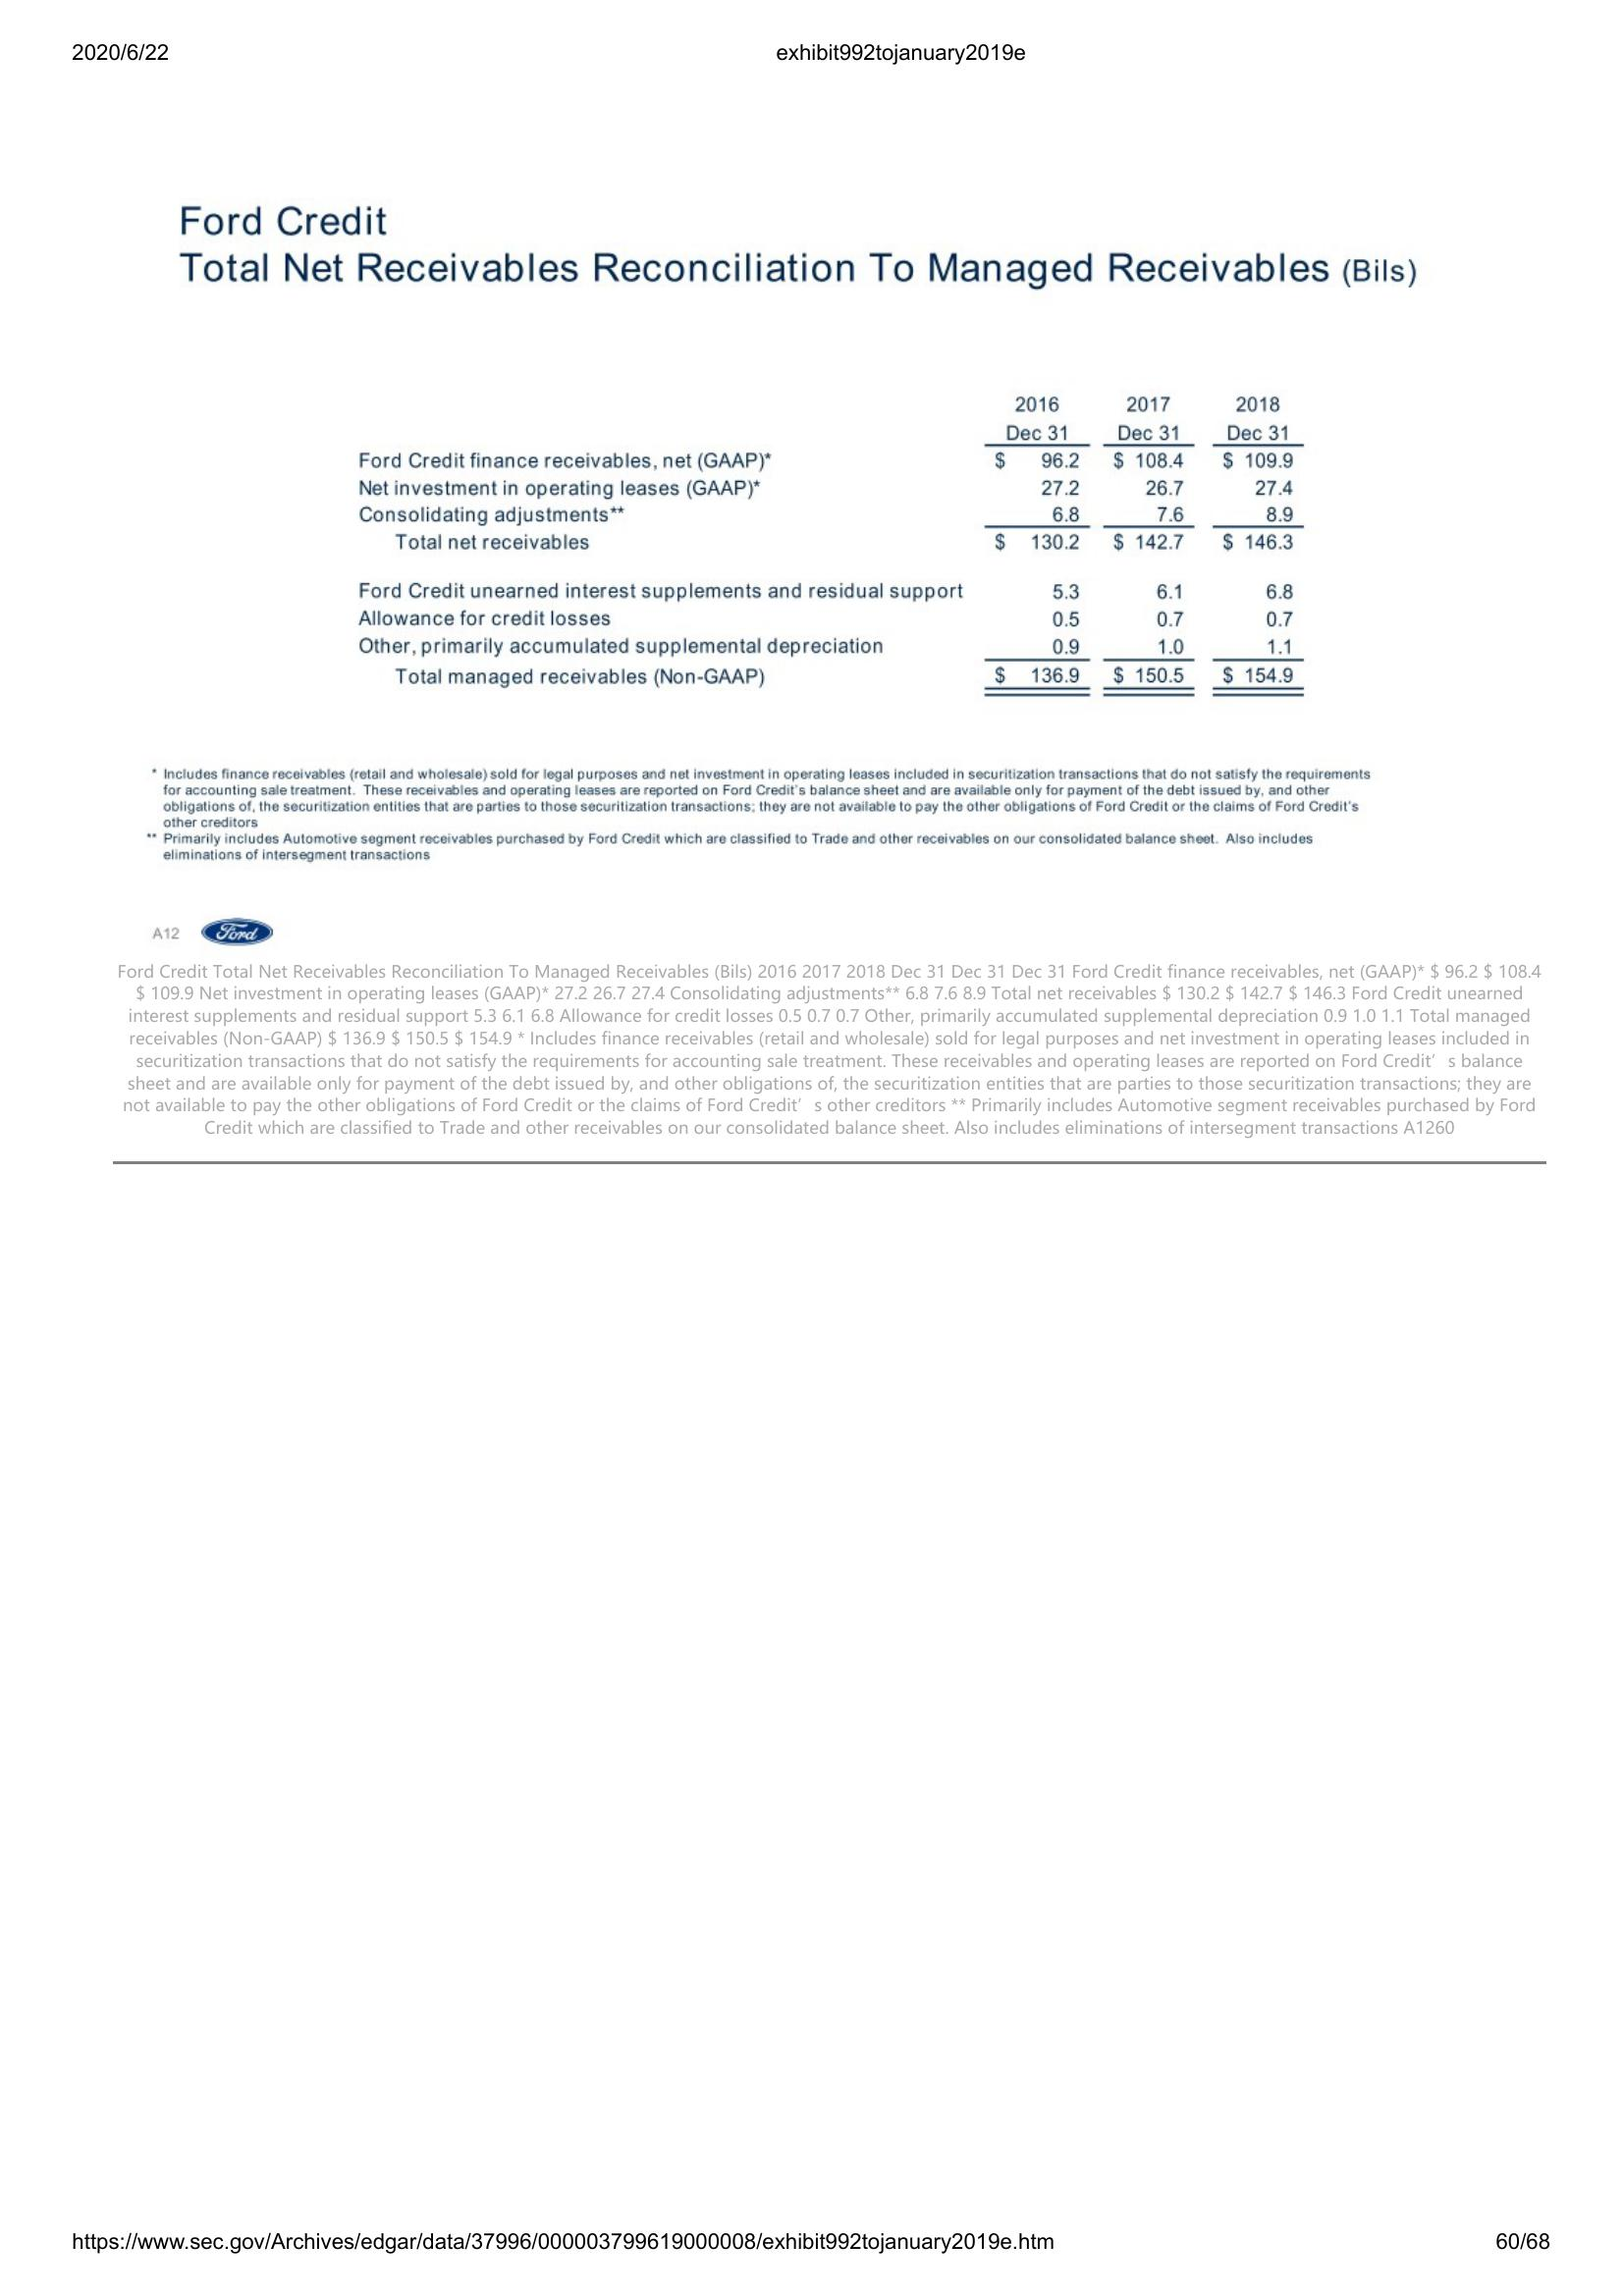table: (351, 384, 1312, 702)
